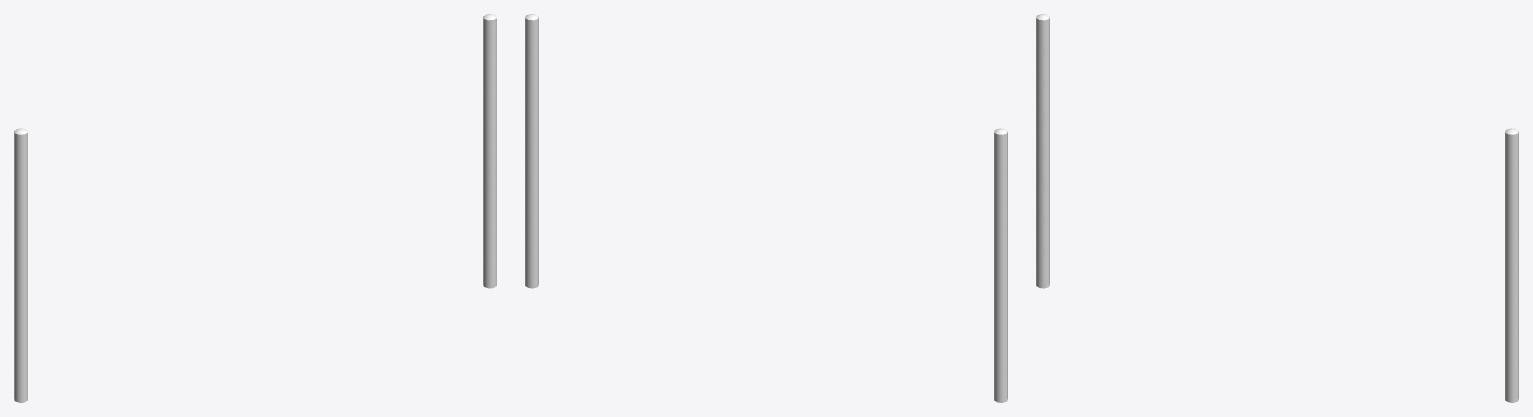
The model's file is light.fbx.
The picture shows the model from 3 angles, left to right: view 1: azimuth 30°, elevation 25°; view 2: azimuth 150°, elevation 25°; view 3: azimuth 330°, elevation 25°; orthographic projection.
Parts seen in each view (by area): view 1: right, left; view 2: right, left; view 3: right, left.
Part boxes in pixels (left/top/right/bottom): right: left=483, top=14, right=496, bottom=288; left: left=14, top=128, right=27, bottom=402; right: left=525, top=14, right=538, bottom=288; left: left=994, top=128, right=1007, bottom=402; right: left=1505, top=128, right=1518, bottom=402; left: left=1036, top=14, right=1049, bottom=288.
Size of the model in its own units: 1848 by 1000 by 47.81.
Materials: 2 (2 with a texture image).
